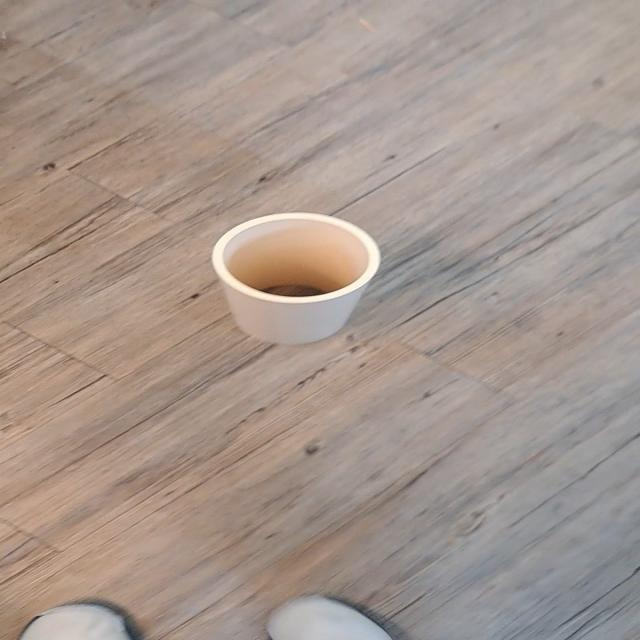CORAL: (170, 179, 418, 362)
